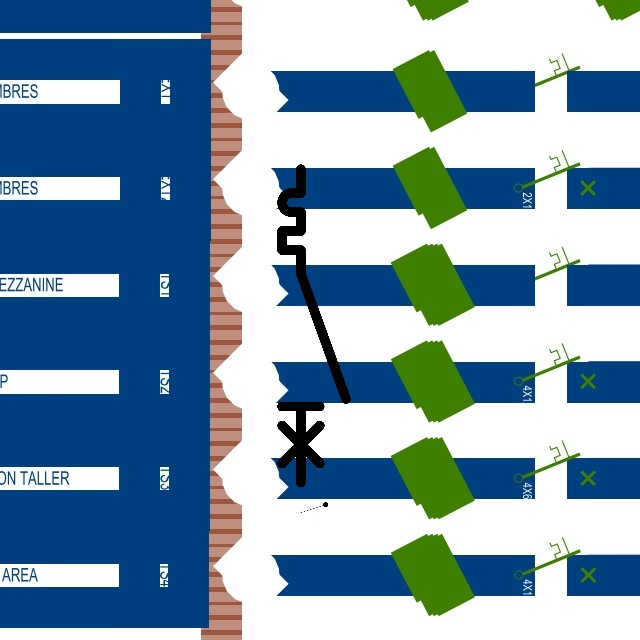interruptor_termomagnetico: (274, 161, 354, 490)
